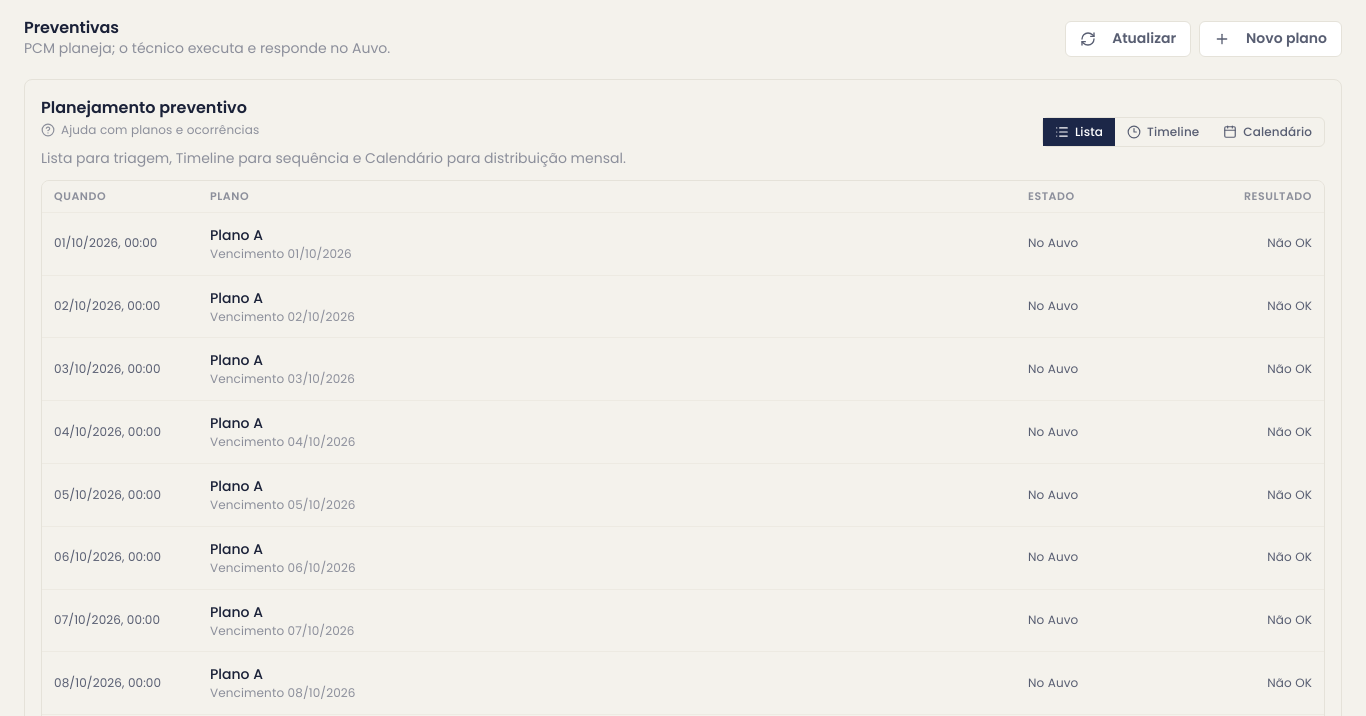
Test case: PreventivasWorkspace — E01-S53 / E01-S163 AC-10 e AC-15 › pagina o histórico sem reduzir os eventos disponíveis no calendário
Click the button "Calendário": [1268, 132] box left=1211, top=118, right=1324, bottom=146
(page scrolled)
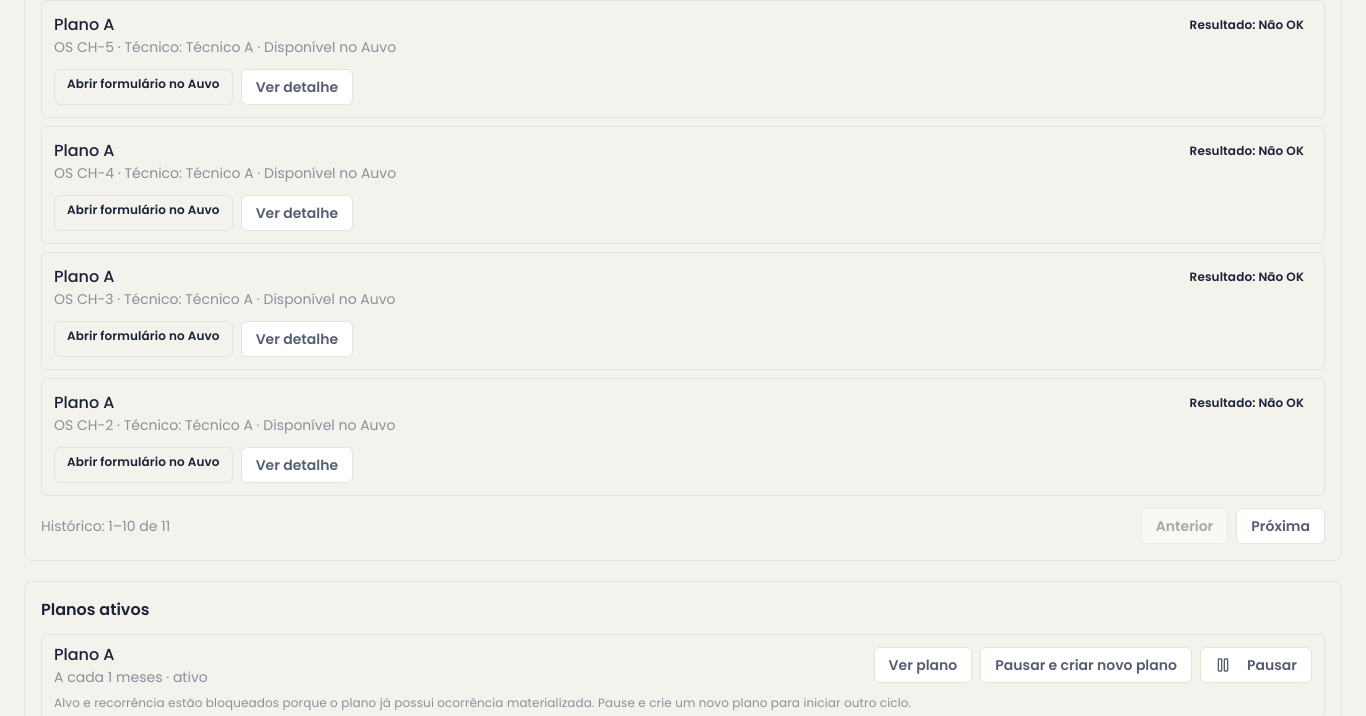
Expected: the text "OS CH-1 ·" is not shown
Click the button with aria-label "Próxima página do histórico": [1281, 526] box left=1236, top=508, right=1325, bottom=544
(page scrolled)
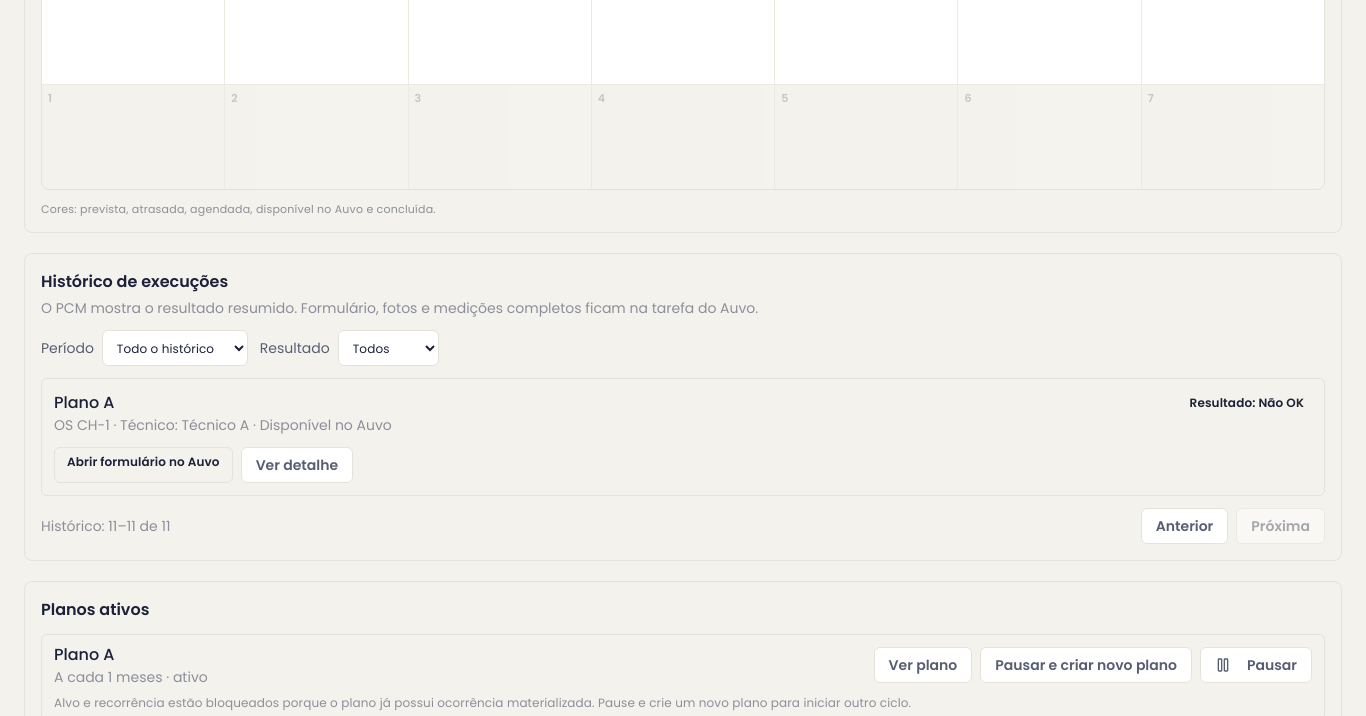
Expected: the text "Histórico: 11–11 de 11" is shown, left=41, top=516, right=170, bottom=536
Expected: the text "OS CH-1 · Técnico: Técnico A · Disponível no Auvo" is shown, left=54, top=416, right=392, bottom=436
